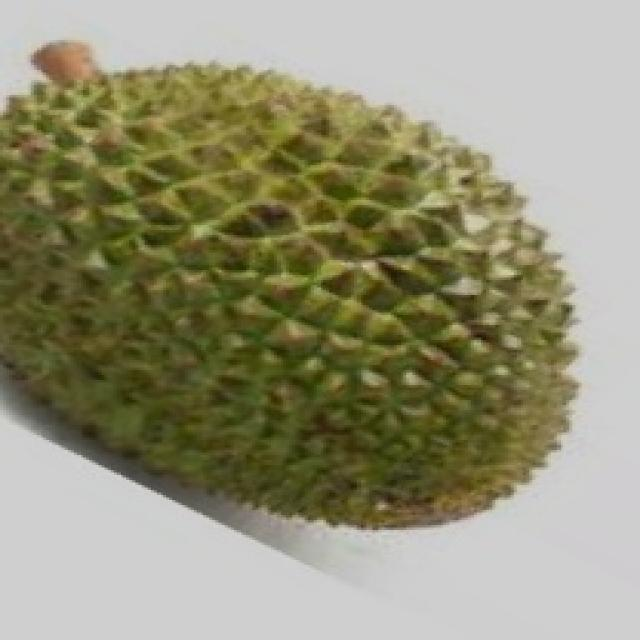fruit: (0, 220, 357, 610), (280, 218, 634, 598)
